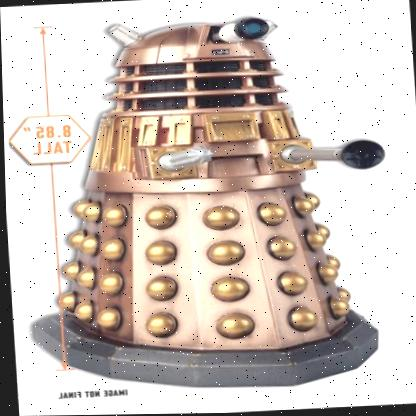dalek: (8, 0, 404, 405)
